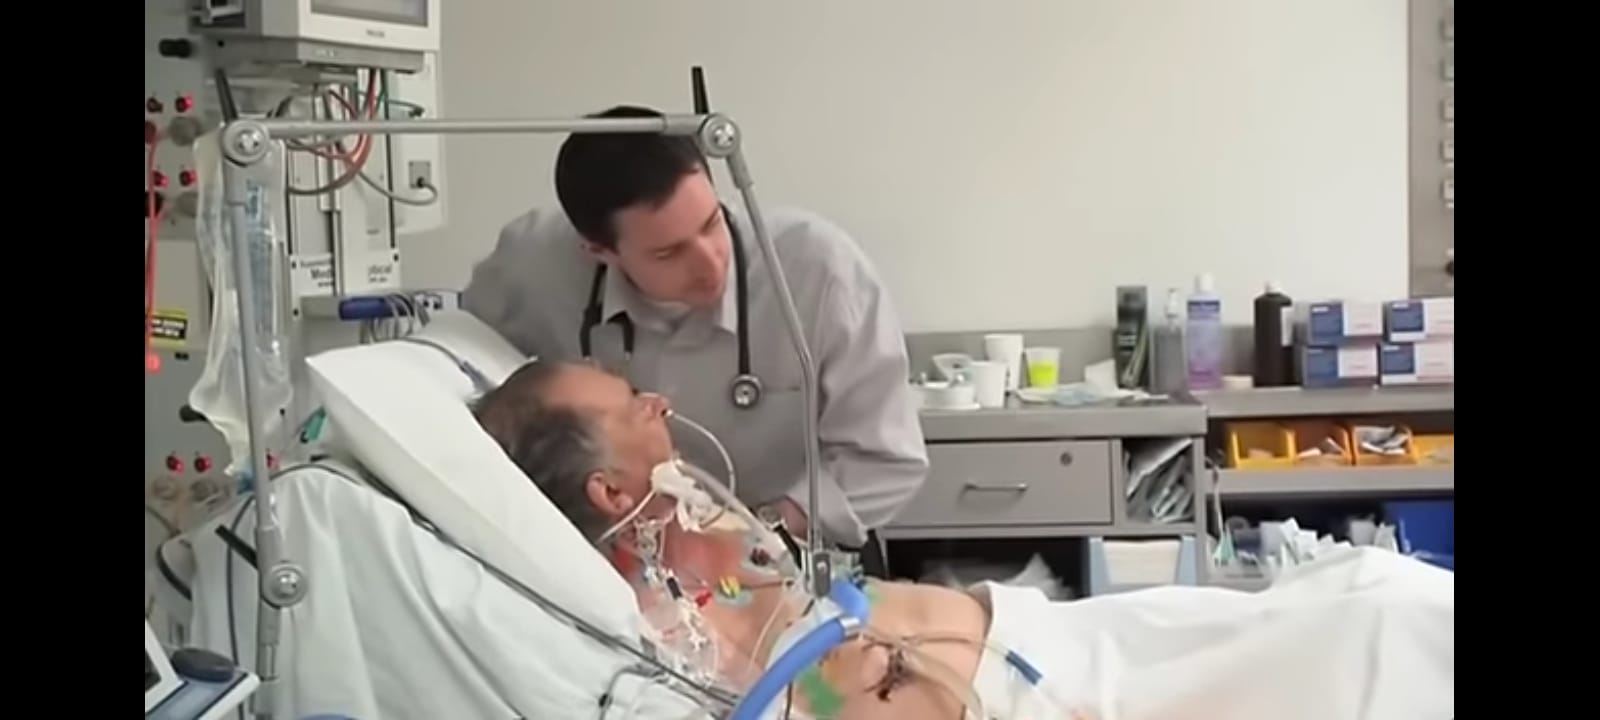doctor: (445, 104, 929, 566)
patient: (464, 355, 1449, 720)
